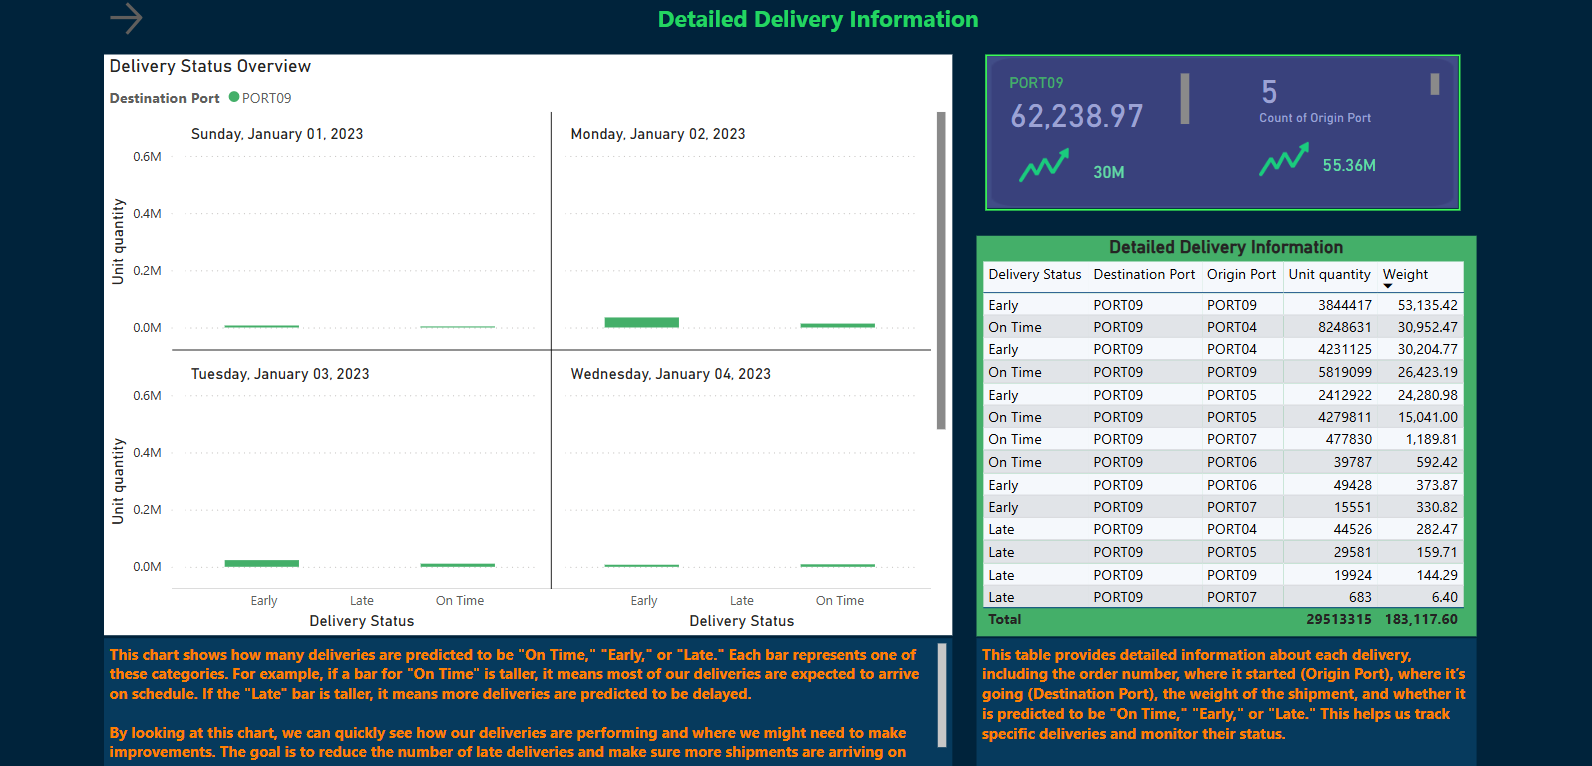

The dashboard page shown, as its layout file describes it:
{"tool":"powerbi","page":{"name":"Detailed Delivery Information","canvas":[1280,720],"ordinal":2},"visuals":[{"type":"actionButton","box":[821.9,53.9,443.3,145.5],"z":0},{"type":"multiRowCard","fields":{"Values":["Delivery_Time_Prediction_Data.Origin Port","predicted_orders_2024.Total Orders"]},"box":[1072.5,66,177.8,68.7],"z":1000},{"type":"actionButton","box":[0,0,41.6,40.4],"z":2000},{"type":"clusteredColumnChart","title":"Delivery Status Overview","fields":{"Category":["Delivery_Time_Prediction_Data.Delivery Status","Delivery_Time_Prediction_Data.Order Date","Delivery_Time_Prediction_Data.Origin Port"],"Series":["Delivery_Time_Prediction_Data.Destination Port"],"Rows":["Delivery_Time_Prediction_Data.Order Date"],"Y":["Sum(Delivery_Time_Prediction_Data.Unit quantity)"]},"box":[0,53.9,790.9,541.6],"z":3000},{"type":"tableEx","title":"Detailed Delivery Information","fields":{"Values":["Delivery_Time_Prediction_Data.Delivery Status","Delivery_Time_Prediction_Data.Destination Port","Delivery_Time_Prediction_Data.Origin Port","Sum(Delivery_Time_Prediction_Data.Unit quantity)","Sum(Delivery_Time_Prediction_Data.Weight)"]},"box":[813.8,222.3,466.2,373.2],"z":4000},{"type":"textbox","box":[377.2,0,576.7,40.4],"z":5000},{"type":"textbox","box":[0,598.2,790.9,121.3],"z":6000},{"type":"textbox","box":[813.8,598.2,466.2,121.3],"z":7000},{"type":"multiRowCard","fields":{"Values":["Delivery_Time_Prediction_Data.Destination Port","predicted_orders_2024.Predicted Unit quantity"]},"box":[839.4,66,177.8,68.7],"z":8000},{"type":"card","fields":{"Values":["Sum(predicted_orders_2024.Total Orders)"]},"box":[1130.4,137.9,60.6,40.4],"z":9000},{"type":"PBI_CV_81BBAD08_3ADD_466C_8819_9FACA21A6B8F","fields":{"imageUrl":["Icons.URL"]},"box":[1072.5,123.1,56.6,55.2],"z":10000},{"type":"card","fields":{"Values":["Sum(Delivery_Time_Prediction_Data.Unit quantity)"]},"box":[906.5,144.7,60.6,40.4],"z":11000},{"type":"PBI_CV_81BBAD08_3ADD_466C_8819_9FACA21A6B8F","fields":{"imageUrl":["Icons.URL"]},"box":[848.6,129.8,56.6,55.2],"z":12000}]}

Visuals, with their boxes on the page's 1280x720 design canvas (x1, y1, x2, y2). These are canvas units, not pixel positions in the 1592x766 screenshot, which may show the page scaled, cropped or inside an application window:
actionButton: 822:54:1265:199
multiRowCard - Delivery_Time_Prediction_Data.Origin Port x predicted_orders_2024.Total Orders: 1072:66:1250:135
actionButton: 0:0:42:40
"Delivery Status Overview" clusteredColumnChart: 0:54:791:596
"Detailed Delivery Information" tableEx: 814:222:1280:596
textbox: 377:0:954:40
textbox: 0:598:791:720
textbox: 814:598:1280:720
multiRowCard - Delivery_Time_Prediction_Data.Destination Port x predicted_orders_2024.Predicted Unit quantity: 839:66:1017:135
card - Sum(predicted_orders_2024.Total Orders): 1130:138:1191:178
PBI_CV_81BBAD08_3ADD_466C_8819_9FACA21A6B8F - Icons.URL: 1072:123:1129:178
card - Sum(Delivery_Time_Prediction_Data.Unit quantity): 906:145:967:185
PBI_CV_81BBAD08_3ADD_466C_8819_9FACA21A6B8F - Icons.URL: 849:130:905:185
